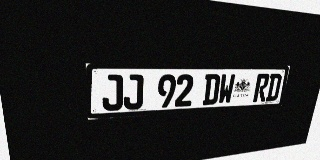2: (175, 74, 194, 107)
9: (157, 74, 177, 108)
D: (202, 74, 221, 105), (265, 74, 282, 101)
J: (102, 74, 123, 111), (123, 74, 144, 110)
R: (253, 74, 270, 102)
W: (217, 74, 236, 104)
